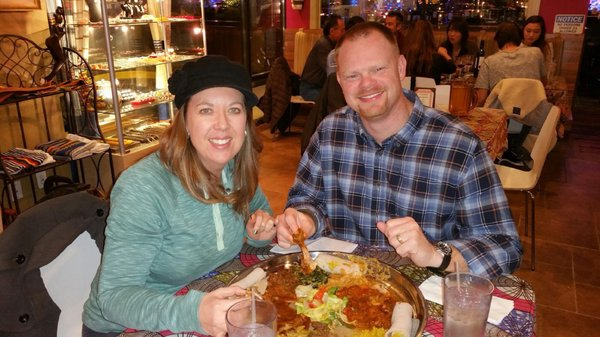pizza: (442, 272, 495, 336), (225, 296, 277, 337)
